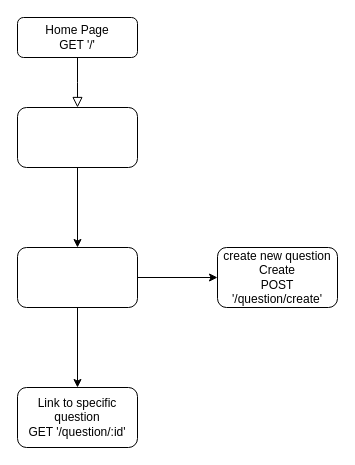
Some shapes in this 355 by 465 pixel diagram are drawn without their labels. Each missing label, with the centre of its shape:
All Questions visible Read GET '/question': the point at 77,277
Login using Google GET '/auth/google': the point at 77,137
